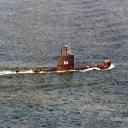submarine: (16, 41, 112, 74)
